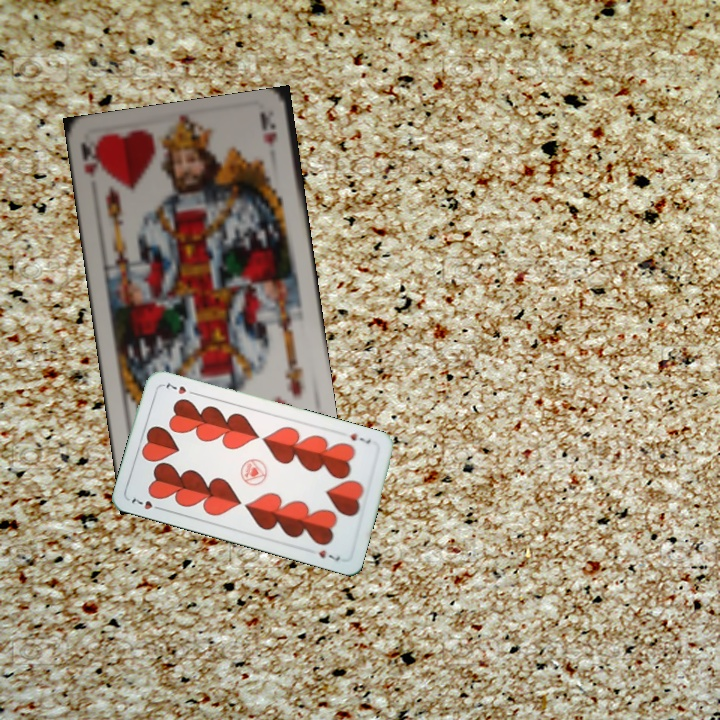H7: (127, 493, 166, 513), (346, 429, 374, 447)
HK: (77, 138, 105, 181)
